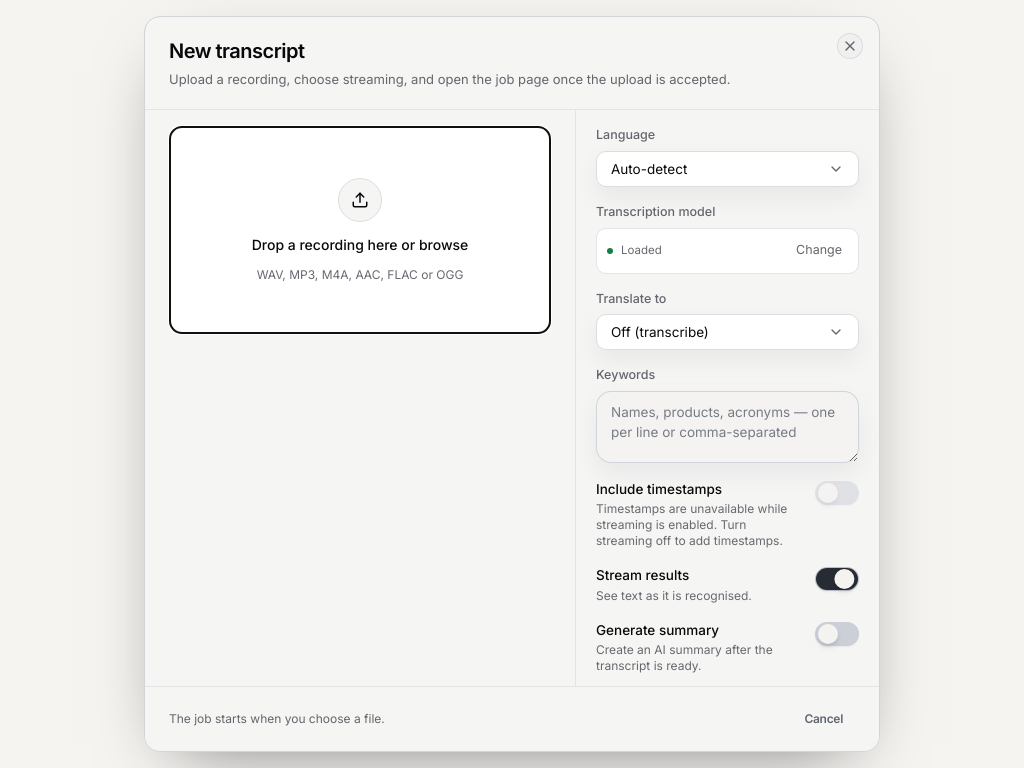
Test: viewport-safe creation dialogs › offers translation and keywords only to a model that takes them
Check: the dropdown named "Translate to" is enabled, box [596,314,859,350]
Check: the text box named "Keywords" is enabled, box [596,391,859,463]
Click the switch named "Stream results" next to "See text as it is recognised." at (837, 579), box [815,567,859,591]
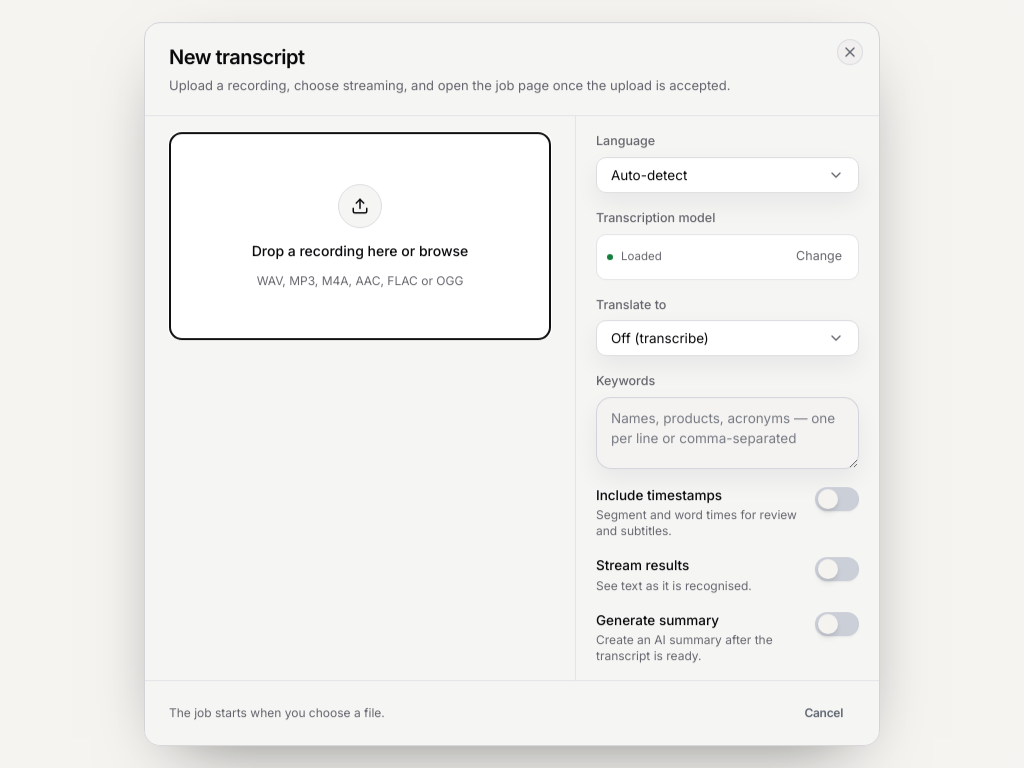
Click the switch named "Include timestamps" in the row of "Include timestamps" at (837, 499), box [815,487,859,511]
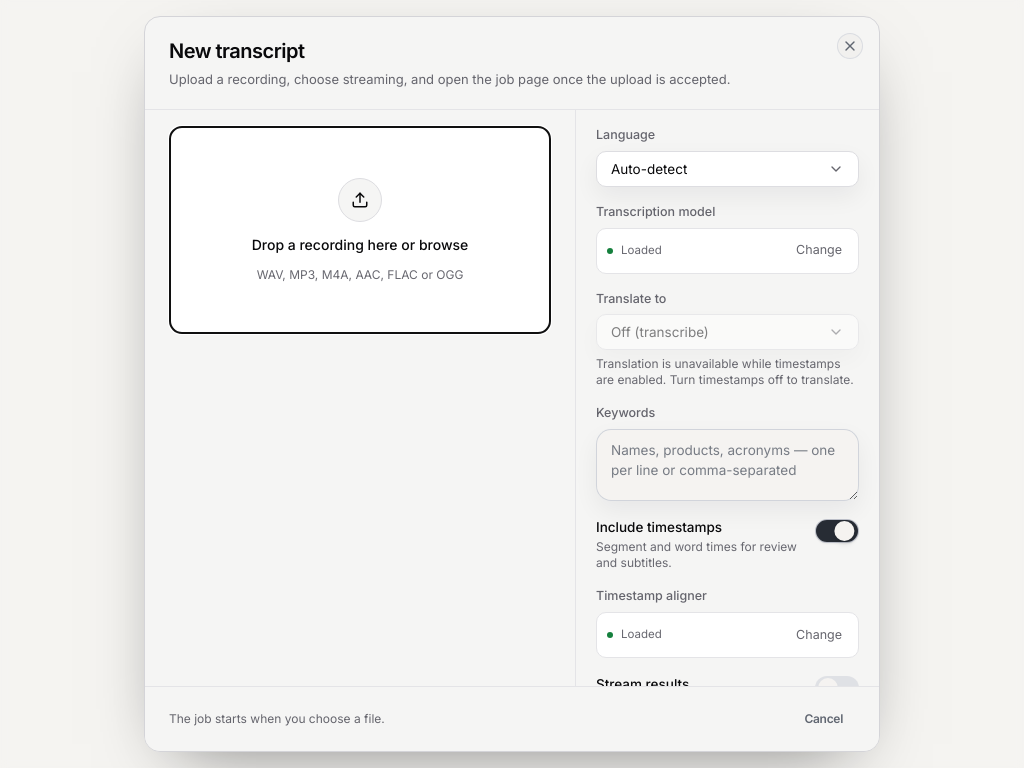
Check: the dropdown named "Translate to" is disabled, box [596,314,859,350]
Check: the text "Translation is unavailable while timestamps are enabled" is shown, box [596,356,854,387]
